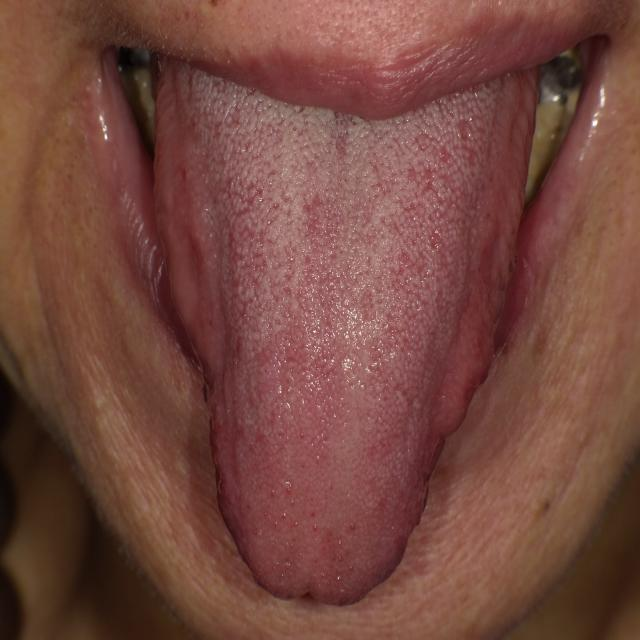baitaishe: (153, 51, 541, 603)
gandanao: (404, 51, 540, 463), (154, 53, 247, 426)
